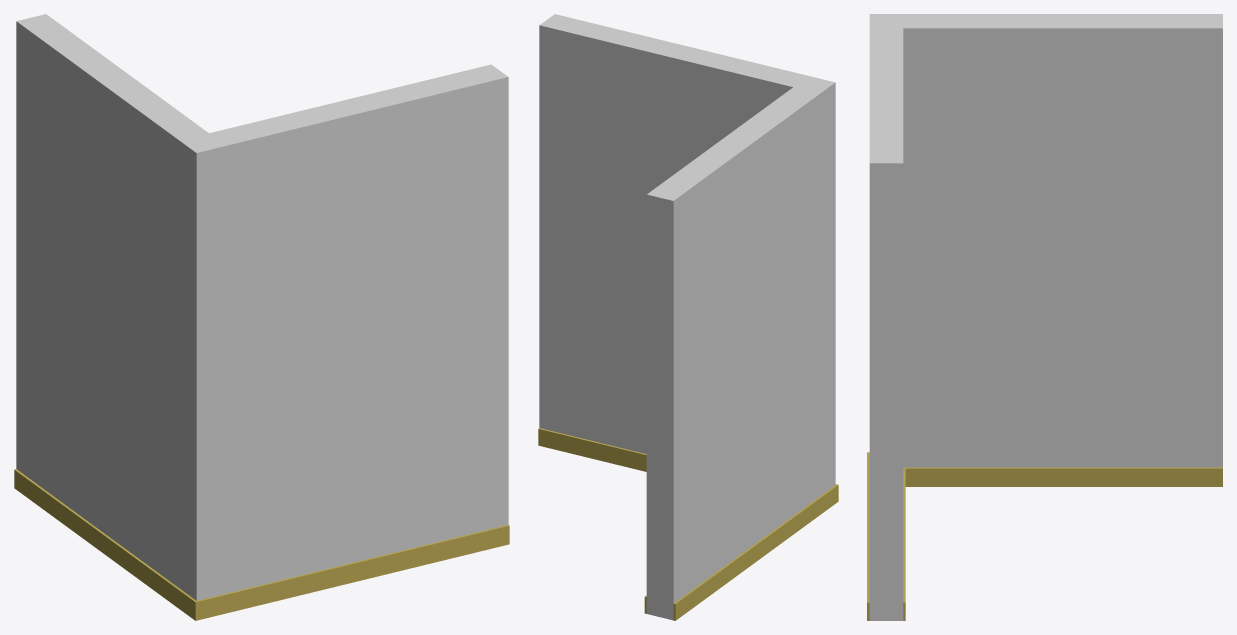
The model's file is MOD_04_Wall_InnerCorner.fbx.
The picture shows the model from 3 angles, left to right: view 1: azimuth 30°, elevation 25°; view 2: azimuth 150°, elevation 25°; view 3: azimuth 270°, elevation 25°; orthographic projection. The views are drawn at different scales.
Parts seen in each view (by area): view 1: MOD_04_Wall_InnerCorner; view 2: MOD_04_Wall_InnerCorner; view 3: MOD_04_Wall_InnerCorner.
Part boxes in pixels (x1,y1,x2,y2): MOD_04_Wall_InnerCorner: [14, 14, 509, 620]; MOD_04_Wall_InnerCorner: [538, 14, 838, 620]; MOD_04_Wall_InnerCorner: [867, 14, 1222, 620].
Size of the model in its own units: 2.12 by 3 by 2.12.
